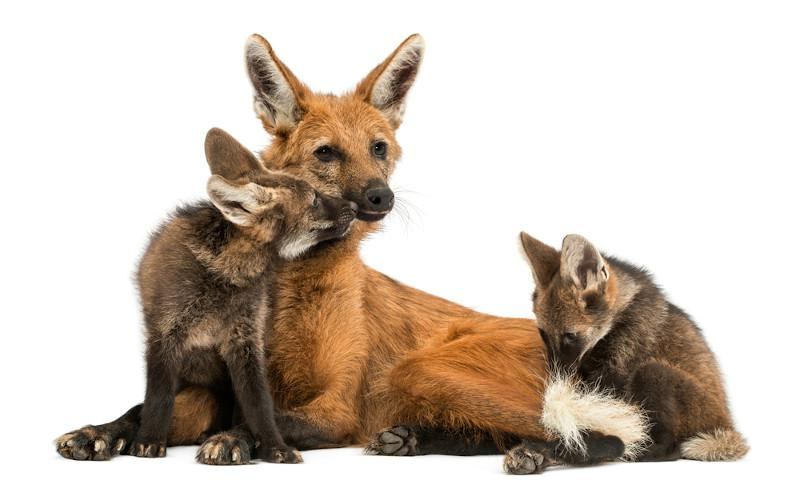LoboGuara: (243, 24, 558, 472), (128, 125, 358, 473), (510, 220, 754, 470)
